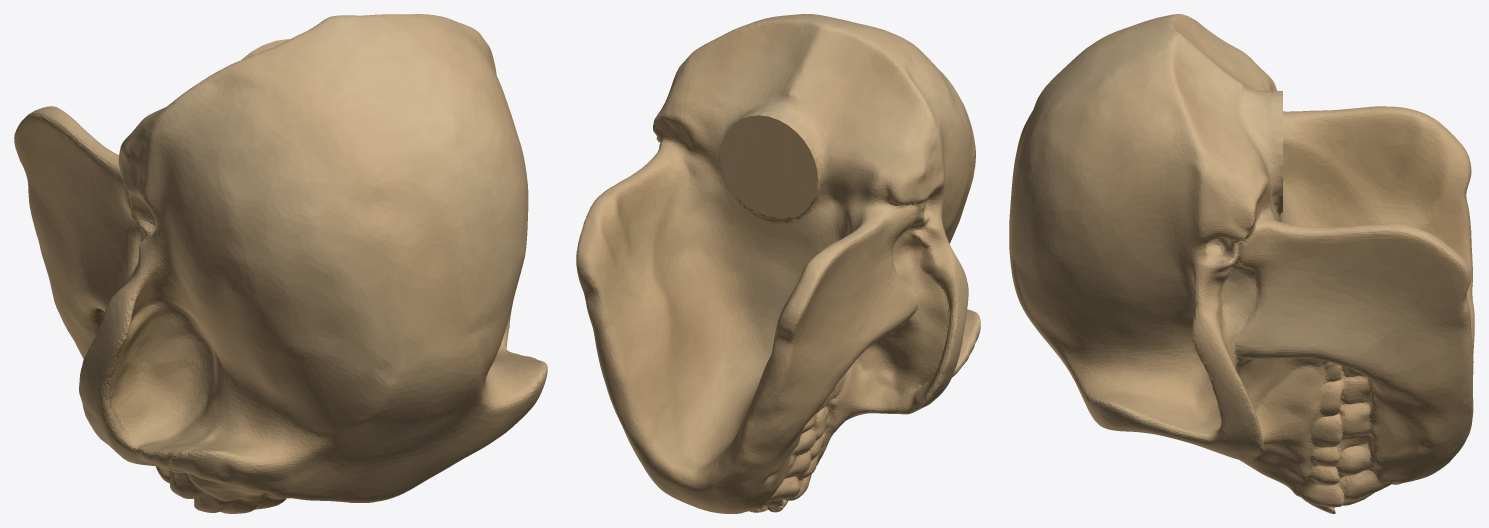
The model's file is ardipithecus.glb.
3 views of the same model, side by side, from view 1: azimuth 30°, elevation 25°; view 2: azimuth 150°, elevation 25°; view 3: azimuth 270°, elevation 25° (orthographic). The views are drawn at different scales.
Size of the model in its own units: 31.76 by 40.17 by 36.3.
